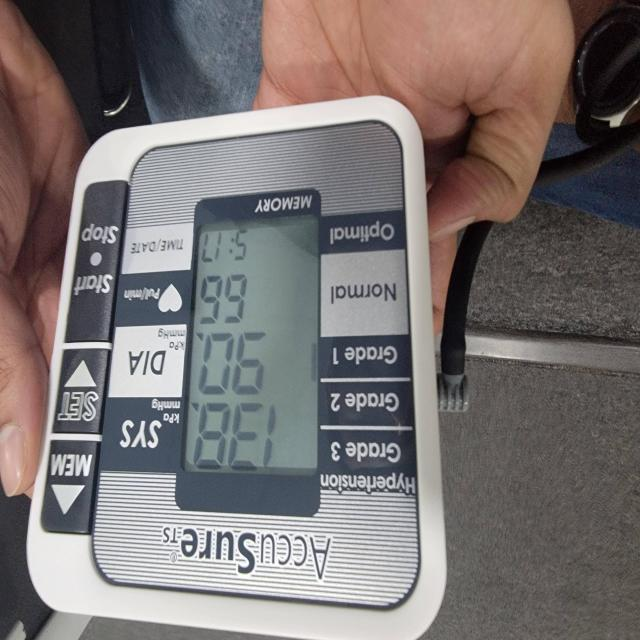bp: (27, 98, 444, 640)
